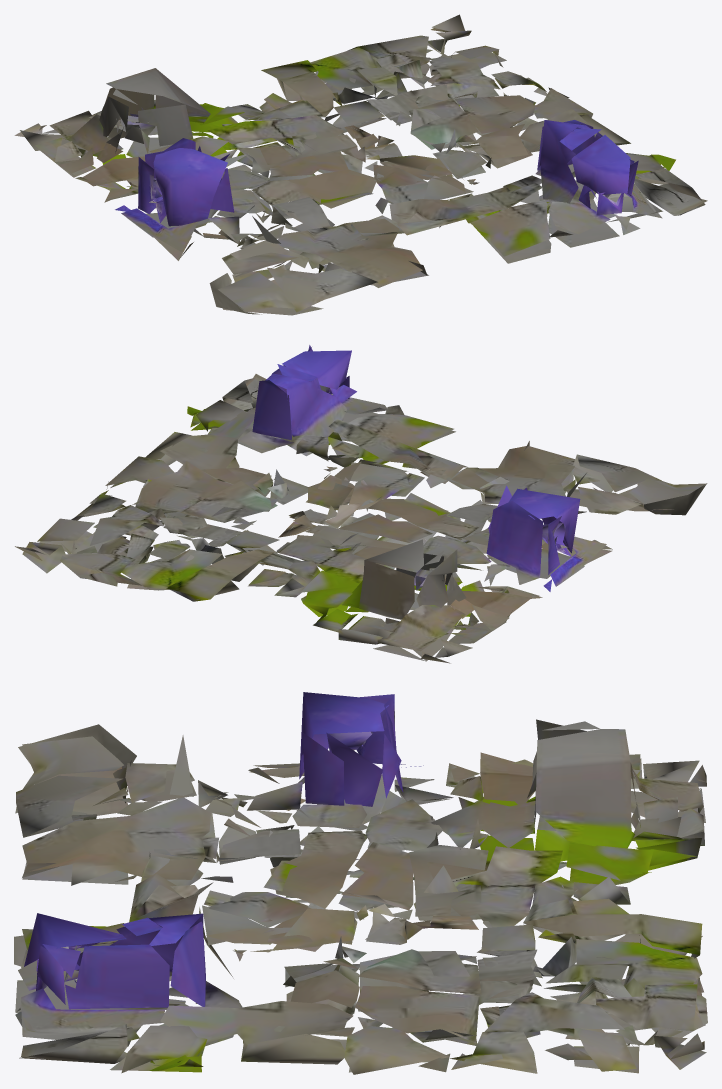
The model's file is ground_tile.glb.
The picture shows the model from 3 angles, top to bottom: view 1: azimuth 30°, elevation 25°; view 2: azimuth 150°, elevation 25°; view 3: azimuth 270°, elevation 25°; orthographic projection. The views are drawn at different scales.
Parts seen in each view (by area): view 1: tripo_node_19726864-8ada-4f50-a234-3697423f7151; view 2: tripo_node_19726864-8ada-4f50-a234-3697423f7151; view 3: tripo_node_19726864-8ada-4f50-a234-3697423f7151.
Part boxes in pixels (x1=…): tripo_node_19726864-8ada-4f50-a234-3697423f7151: x1=14, y1=14, x2=707, y2=315; tripo_node_19726864-8ada-4f50-a234-3697423f7151: x1=15, y1=345, x2=707, y2=663; tripo_node_19726864-8ada-4f50-a234-3697423f7151: x1=14, y1=692, x2=707, y2=1074.
Size of the model in its own units: 0.9643 by 0.1891 by 0.8585.
Materials: 1 (1 with a texture image).
